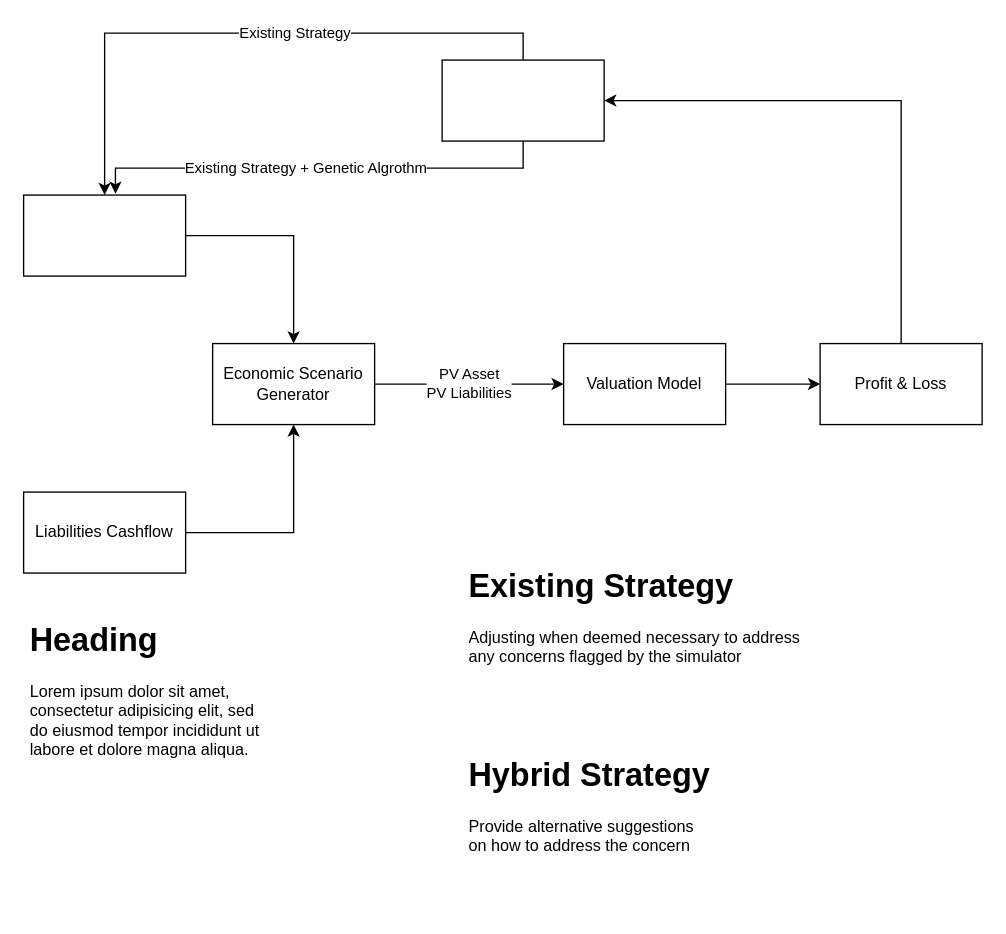
Image size: 1006x934. Some labels were removed from this diagram. Each missing label, with the centre of its shape:
Asset Mix: pixel 104 235
Asset Selection: pixel 522 100
